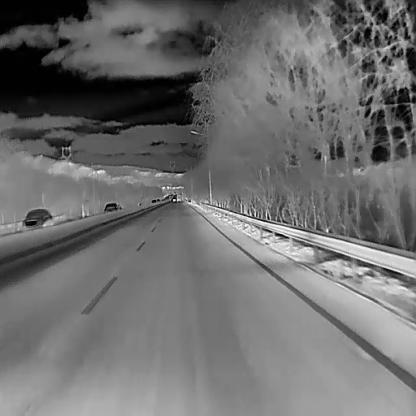bus: (177, 194, 182, 202)
car: (20, 206, 55, 233), (102, 200, 122, 214), (150, 198, 157, 203), (172, 198, 176, 202), (156, 198, 160, 202)
